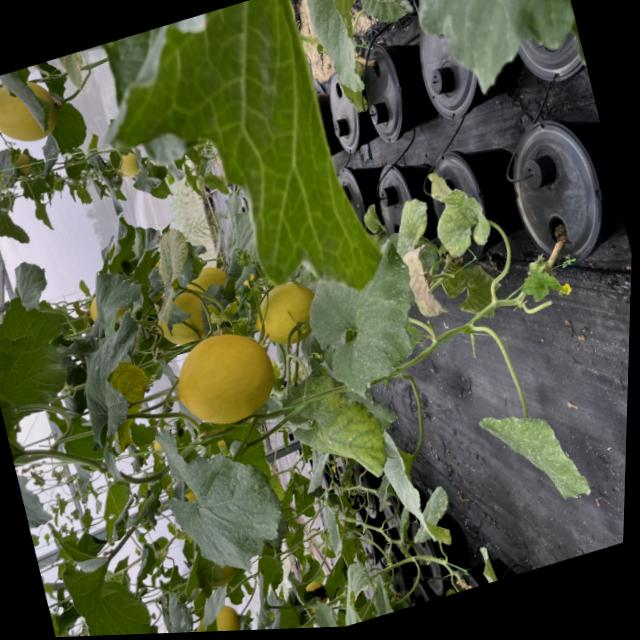alternaria leaf blight: (399, 246, 451, 335), (38, 45, 103, 102)
downy mildew: (148, 412, 295, 586), (276, 360, 399, 502), (368, 419, 445, 559), (415, 161, 497, 262)
powdery mildew: (284, 227, 443, 412), (469, 383, 601, 536)
